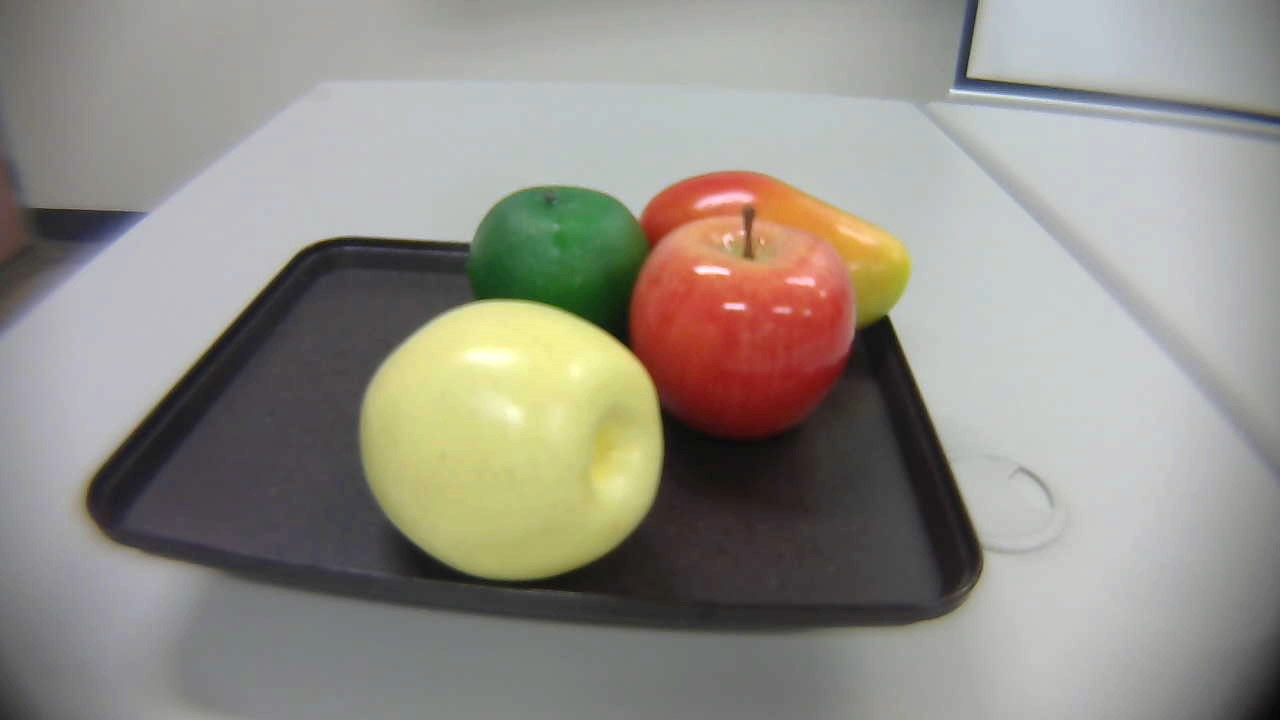green orange: (460, 173, 663, 343)
red apple: (627, 203, 862, 448)
red mango: (640, 166, 922, 341)
western pear: (355, 289, 670, 576)
